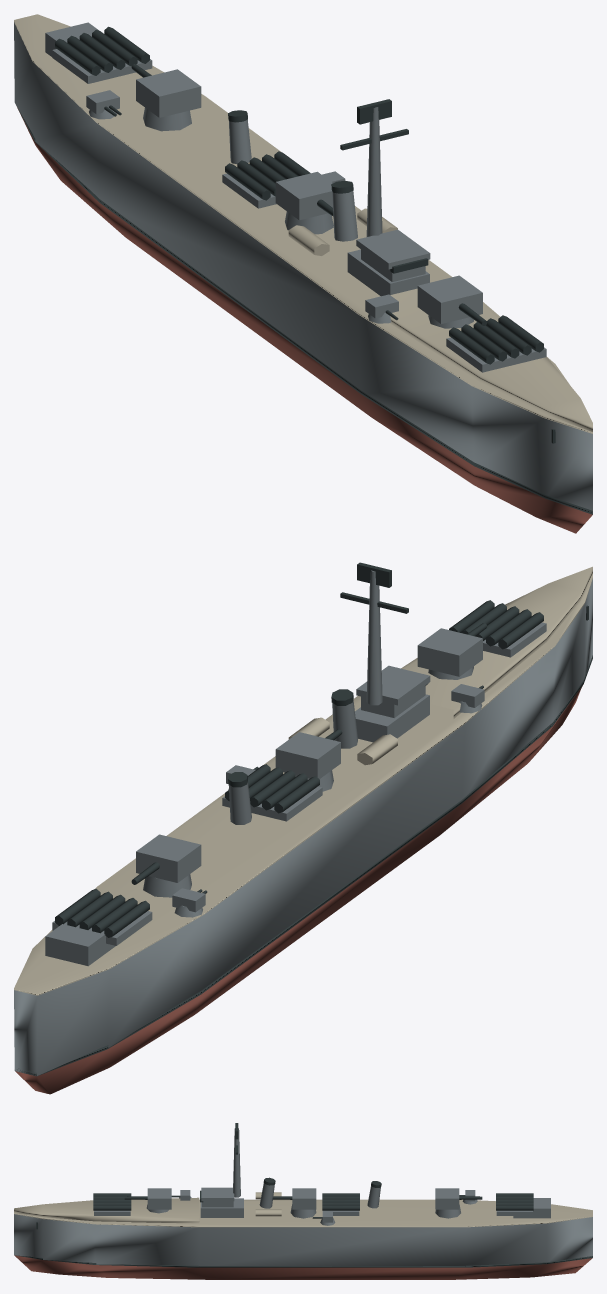
Rendered from shimakaze.glb.
The picture shows the model from 3 angles, top to bottom: view 1: azimuth 30°, elevation 25°; view 2: azimuth 150°, elevation 25°; view 3: azimuth 270°, elevation 25°; orthographic projection. The views are drawn at different scales.
Parts seen in each view (by area): view 1: Freeboard, Deck, UnderwaterHull, Forecastle, Waterline, Main-Casing-2, Main-Casing-0, Main-Casing-1, Bridge-Roof, Foremast-Pole, Bridge-Foundation, Funnel-0-Body (+7 smaller); view 2: Freeboard, Deck, UnderwaterHull, Forecastle, Main-Casing-0, Waterline, Main-Casing-1, Main-Casing-2, AftDeckhouse, Bridge-Foundation, Foremast-Pole, Bridge-Roof (+7 smaller); view 3: Freeboard, Deck, UnderwaterHull, Forecastle, Waterline, Bridge-Foundation, Main-Casing-0, Main-Casing-1, Main-Casing-2, Bridge-Roof, Foremast-Pole, AftDeckhouse (+6 smaller).
Boxes of the visible parts, <box> form: Freeboard: <box>14,22,592,513</box>; Deck: <box>14,14,592,433</box>; UnderwaterHull: <box>17,107,592,533</box>; Forecastle: <box>390,288,592,431</box>; Waterline: <box>15,103,592,514</box>; Main-Casing-2: <box>136,69,201,117</box>; Main-Casing-0: <box>417,275,482,323</box>; Main-Casing-1: <box>275,171,332,220</box>; Bridge-Roof: <box>356,229,430,269</box>; Foremast-Pole: <box>366,107,382,236</box>; Bridge-Foundation: <box>347,249,429,296</box>; Funnel-0-Body: <box>332,191,357,241</box>; Freeboard: <box>14,578,592,1075</box>; Deck: <box>14,576,592,995</box>; UnderwaterHull: <box>15,684,583,1094</box>; Forecastle: <box>401,566,592,718</box>; Main-Casing-0: <box>417,628,482,676</box>; Waterline: <box>15,655,592,1076</box>; Main-Casing-1: <box>275,732,340,778</box>; Main-Casing-2: <box>136,834,201,882</box>; AftDeckhouse: <box>45,921,115,966</box>; Bridge-Foundation: <box>355,694,429,742</box>; Foremast-Pole: <box>366,570,382,705</box>; Bridge-Roof: <box>356,665,430,705</box>; Freeboard: <box>14,1214,592,1265</box>; Deck: <box>14,1199,592,1227</box>; UnderwaterHull: <box>14,1255,592,1279</box>; Forecastle: <box>14,1197,199,1223</box>; Waterline: <box>15,1255,592,1267</box>; Bridge-Foundation: <box>200,1198,243,1217</box>; Main-Casing-0: <box>147,1188,171,1209</box>; Main-Casing-1: <box>292,1188,316,1209</box>; Main-Casing-2: <box>435,1188,459,1209</box>; Bridge-Roof: <box>201,1187,234,1201</box>; Foremast-Pole: <box>233,1128,240,1197</box>; AftDeckhouse: <box>513,1198,550,1218</box>.
Size of the model in its own units: 12.48 by 30.21 by 110.
